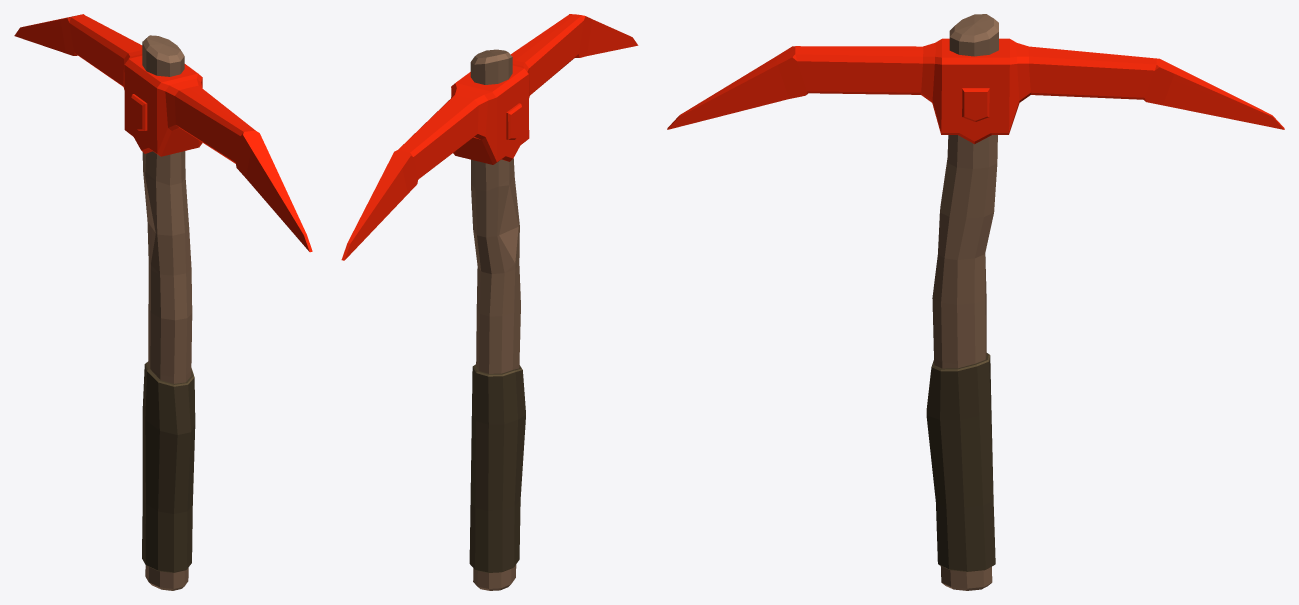
The model's file is Pickaxe_Red.fbx.
3 renders of one model, left to right at view 1: azimuth 30°, elevation 25°; view 2: azimuth 150°, elevation 25°; view 3: azimuth 270°, elevation 25°, orthographic. The views are drawn at different scales.
Parts seen in each view (by area): view 1: Pickaxe_Red; view 2: Pickaxe_Red; view 3: Pickaxe_Red.
Part boxes in pixels (<box>): Pickaxe_Red: <box>14,14,312,590</box>; Pickaxe_Red: <box>341,14,638,590</box>; Pickaxe_Red: <box>667,14,1284,590</box>.
Size of the model in its own units: 13.04 by 126 by 125.
